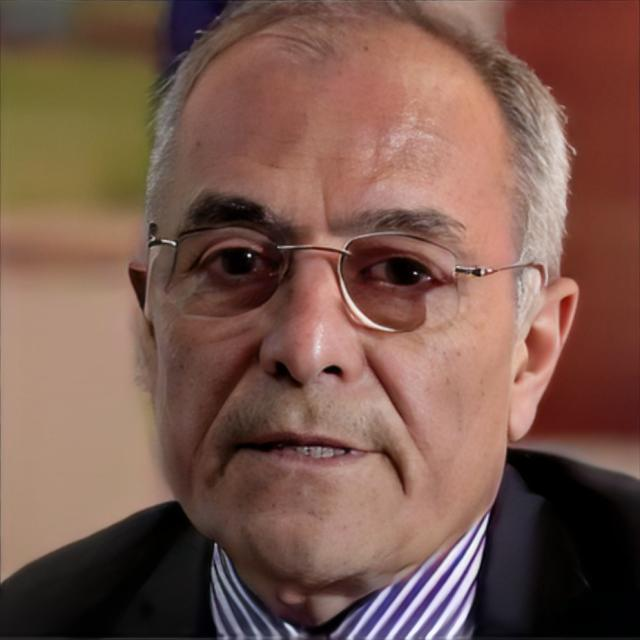neutral: (147, 70, 514, 582)
